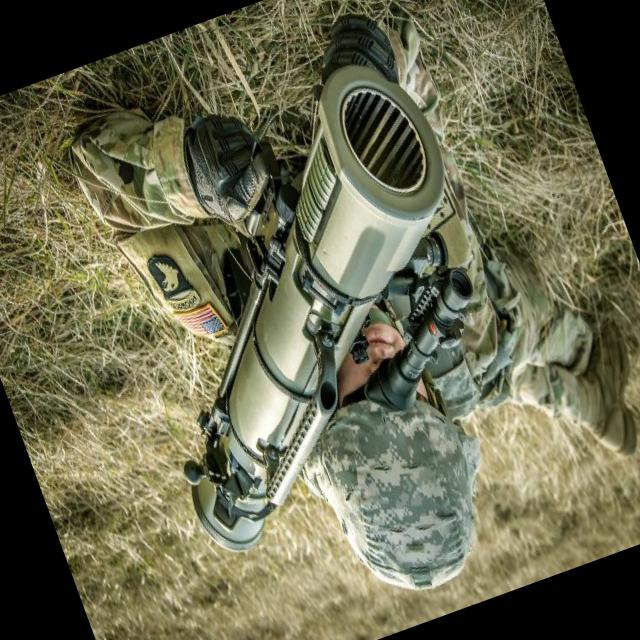Weapon: (66, 39, 552, 569)
